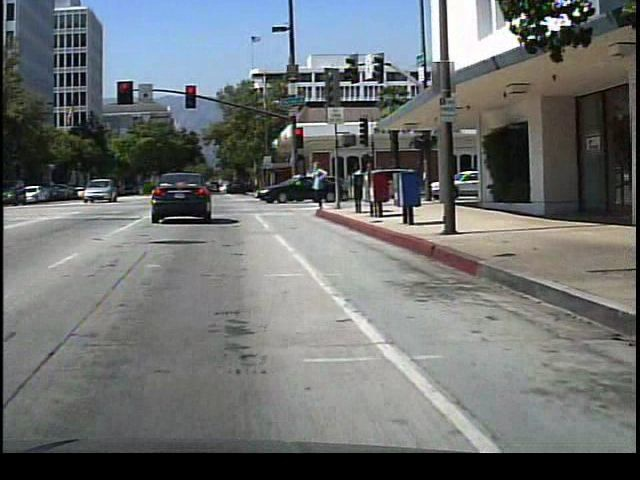person: (309, 153, 333, 214), (364, 155, 383, 206), (353, 157, 371, 204)
